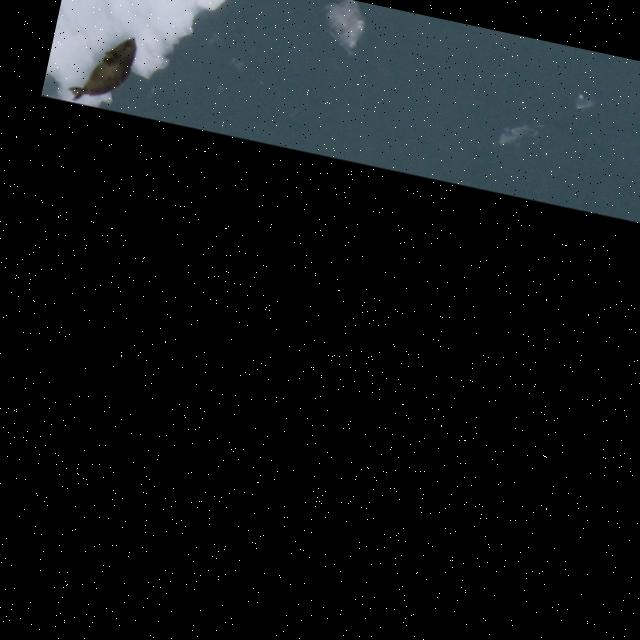seal: (65, 21, 143, 110)
